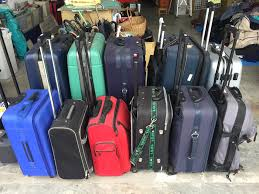luggage: (37, 31, 97, 182), (213, 23, 255, 176), (171, 33, 213, 173), (1, 86, 60, 178), (131, 60, 172, 173), (150, 16, 210, 88), (201, 2, 245, 89), (88, 93, 133, 176), (102, 22, 147, 96), (22, 31, 70, 94), (65, 30, 106, 96)
